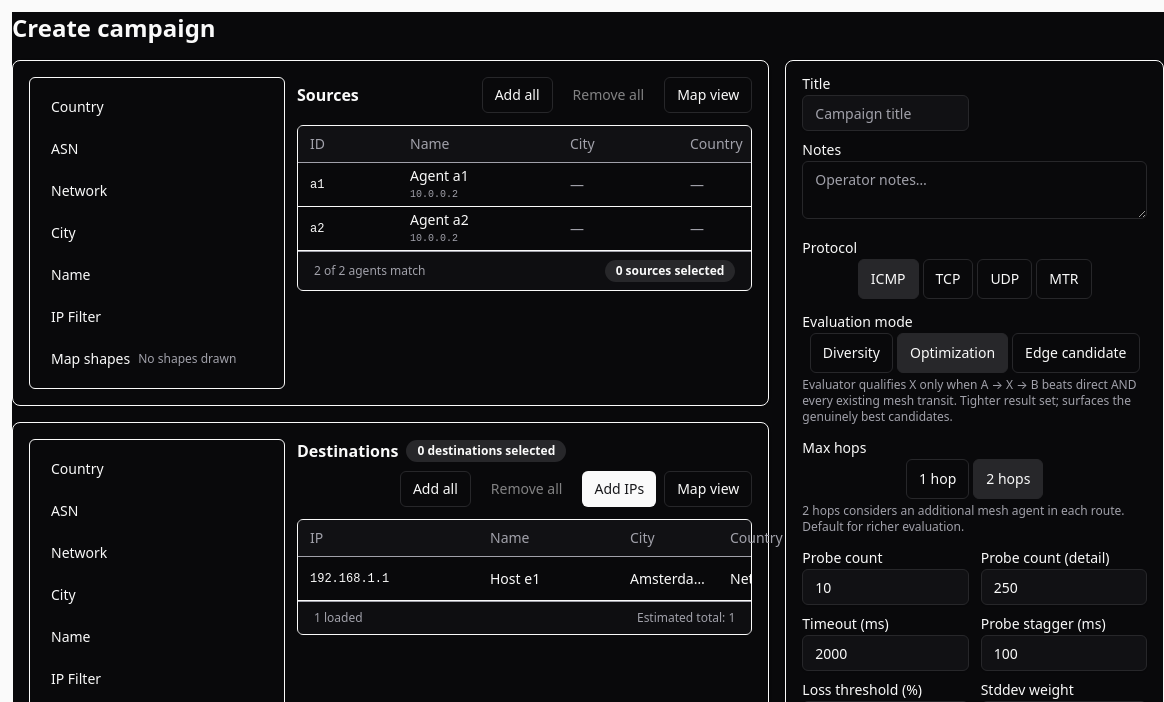
Test: CampaignComposer edge_candidate — mode switch reveals knobs › switching to edge_candidate mode reveals useful_latency_ms and vm_lookback_minutes inputs
Check: the field labelled "Title" is shown, box [802,95,969,131]
Check: the field labelled "useful latency" is not shown
Click the radio button labelled "Edge candidate" at (1076, 353), box [1012,333,1140,373]
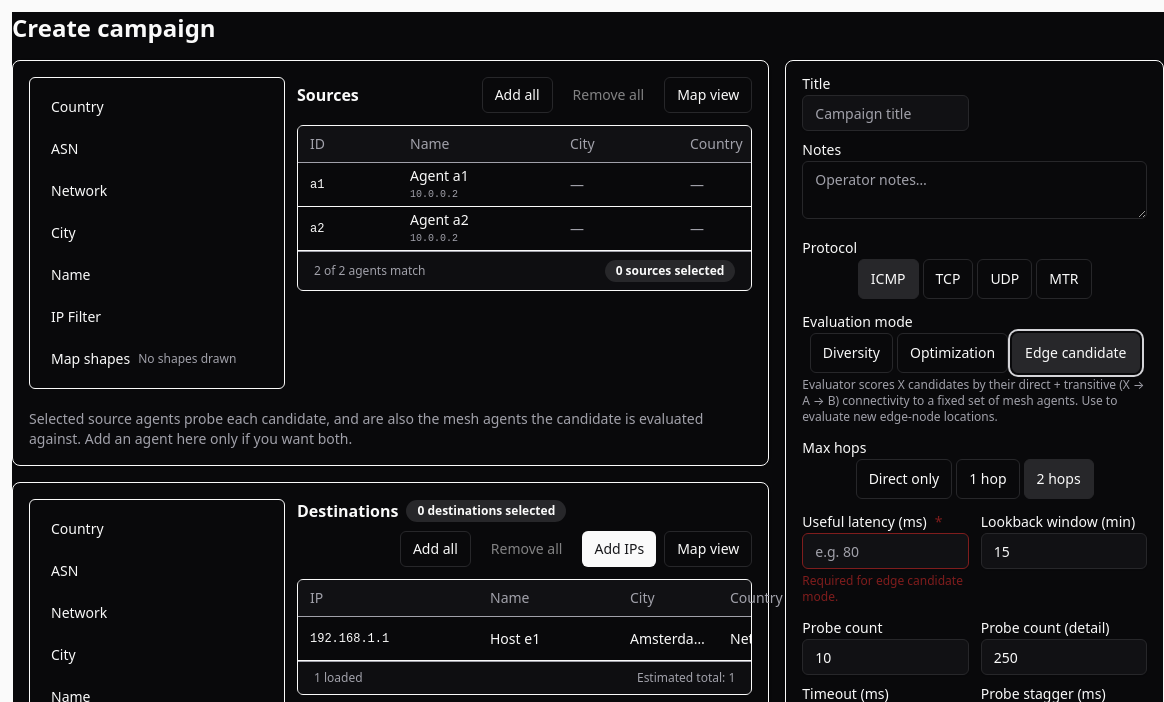
Check: the number field labelled "Useful latency (ms) *" is shown, box [802,533,969,569]
Check: the number field labelled "Lookback window (min)" is shown, box [981,533,1147,569]
